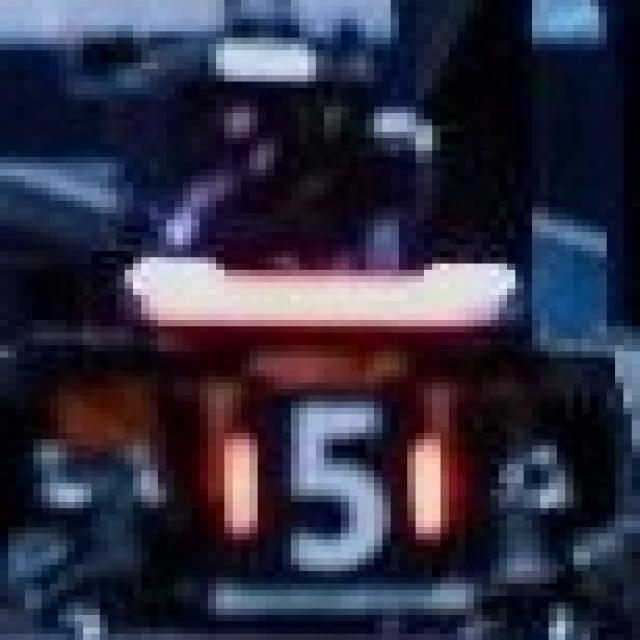R5: (216, 395, 449, 571)
